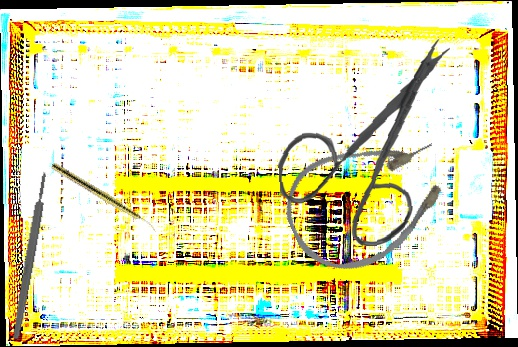Cannula: (269, 113, 468, 290)
Handpiece: (49, 161, 161, 234)
Iris Scissors: (270, 35, 463, 252)
Scalpel Handle: (10, 170, 51, 342)
